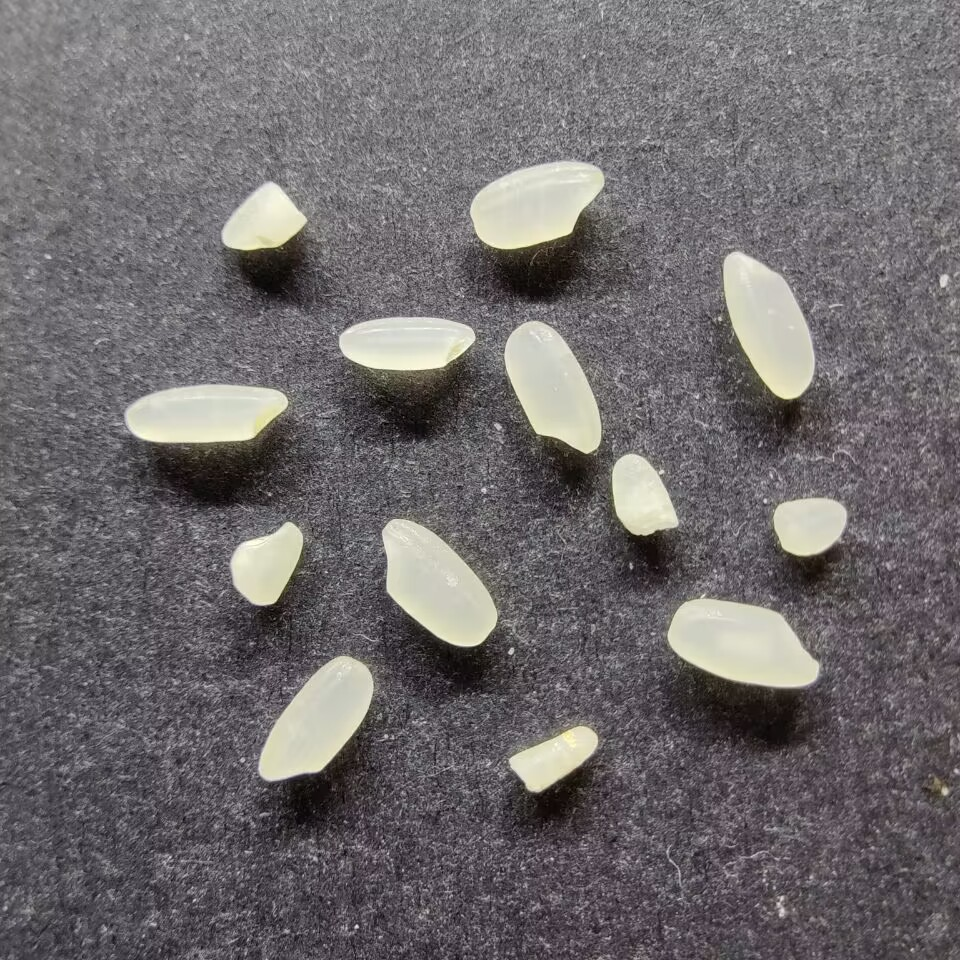broken: (504, 723, 600, 796), (226, 519, 305, 607), (219, 178, 309, 251), (608, 450, 681, 539), (771, 496, 849, 557)
rice: (256, 653, 376, 784), (379, 517, 498, 648), (664, 596, 823, 690), (720, 249, 816, 400), (502, 318, 603, 456), (468, 158, 606, 250), (122, 383, 289, 444), (336, 315, 476, 373)
